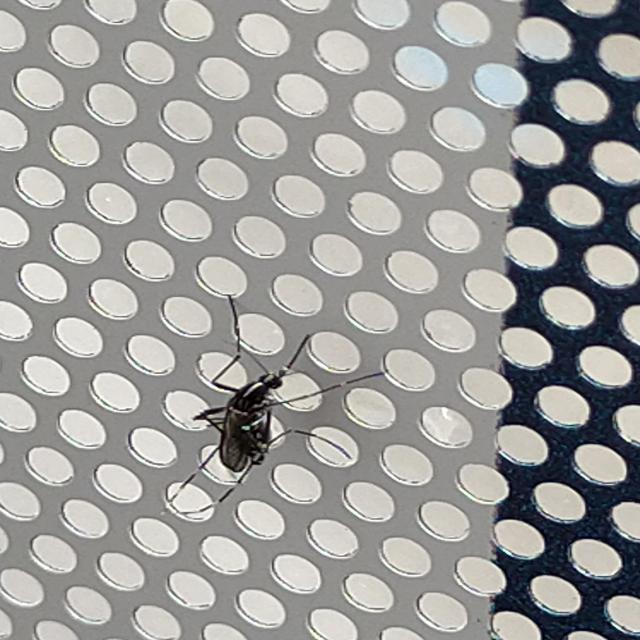albopictus: (146, 310, 378, 516)
